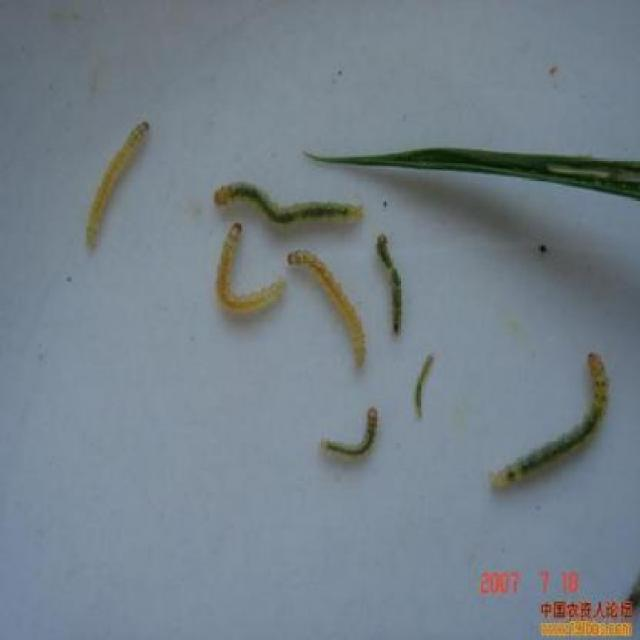leaf-folder: (494, 346, 615, 500), (208, 158, 364, 252), (277, 240, 375, 383), (81, 110, 156, 264), (214, 220, 283, 331), (372, 205, 414, 349), (320, 402, 395, 463), (406, 345, 452, 420)
